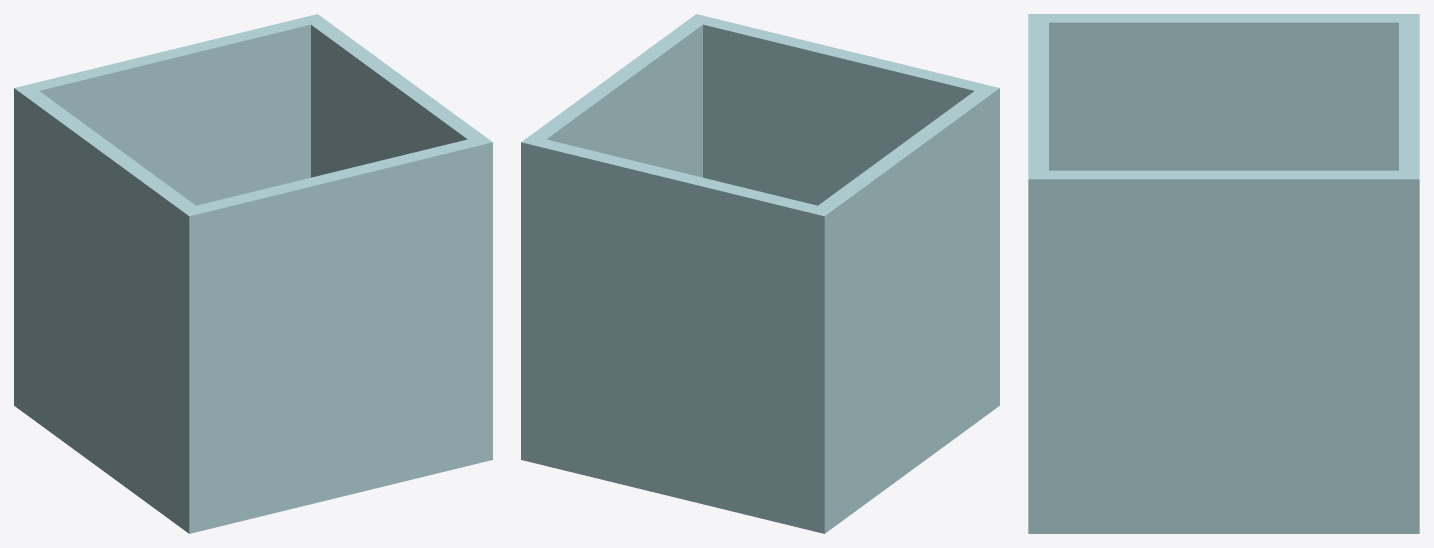
Rendered from tank.glb.
The picture shows the model from 3 angles, left to right: view 1: azimuth 30°, elevation 25°; view 2: azimuth 150°, elevation 25°; view 3: azimuth 270°, elevation 25°; orthographic projection. The views are drawn at different scales.
Parts seen in each view (by area): view 1: Cube; view 2: Cube; view 3: Cube.
Part boxes in pixels (box(x1,y1,x2,y2)): Cube: box(14, 14, 492, 533); Cube: box(521, 14, 999, 533); Cube: box(1028, 14, 1419, 533).
Bounding box in the file's own units: 2 × 2 × 2.
